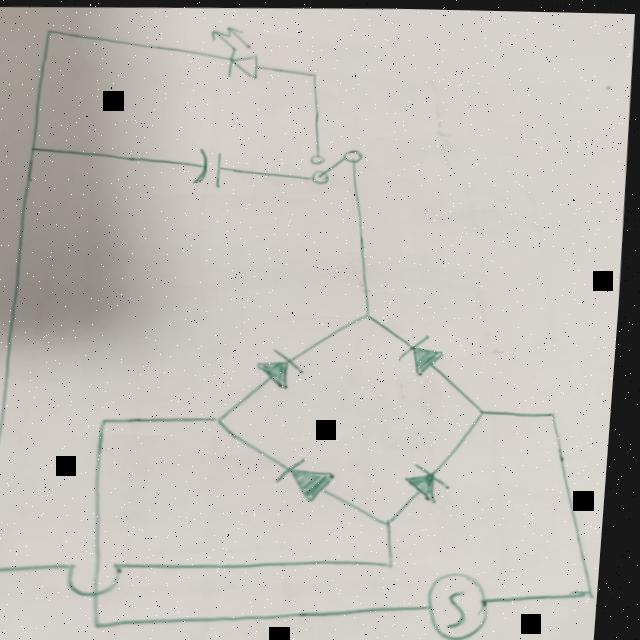capacitor: (193, 145, 229, 189)
crossover: (74, 558, 135, 597)
diode: (210, 23, 264, 79), (281, 454, 345, 500), (259, 345, 312, 388), (403, 332, 452, 375), (411, 460, 459, 501)
junction: (542, 401, 573, 422), (92, 612, 119, 636), (581, 581, 607, 601), (383, 511, 404, 526), (305, 66, 324, 81), (27, 141, 45, 156), (215, 410, 234, 424), (388, 554, 407, 568), (43, 24, 60, 39), (0, 555, 10, 578), (362, 308, 381, 319), (103, 412, 119, 425), (480, 402, 495, 415)
source: (435, 568, 504, 639)
switch: (310, 145, 367, 184)
